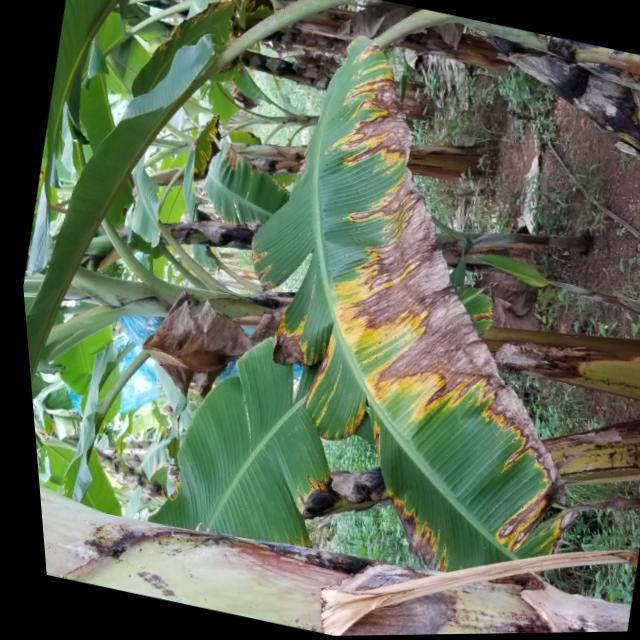Early_rust: (244, 28, 584, 561), (125, 0, 271, 106), (184, 101, 226, 179)
